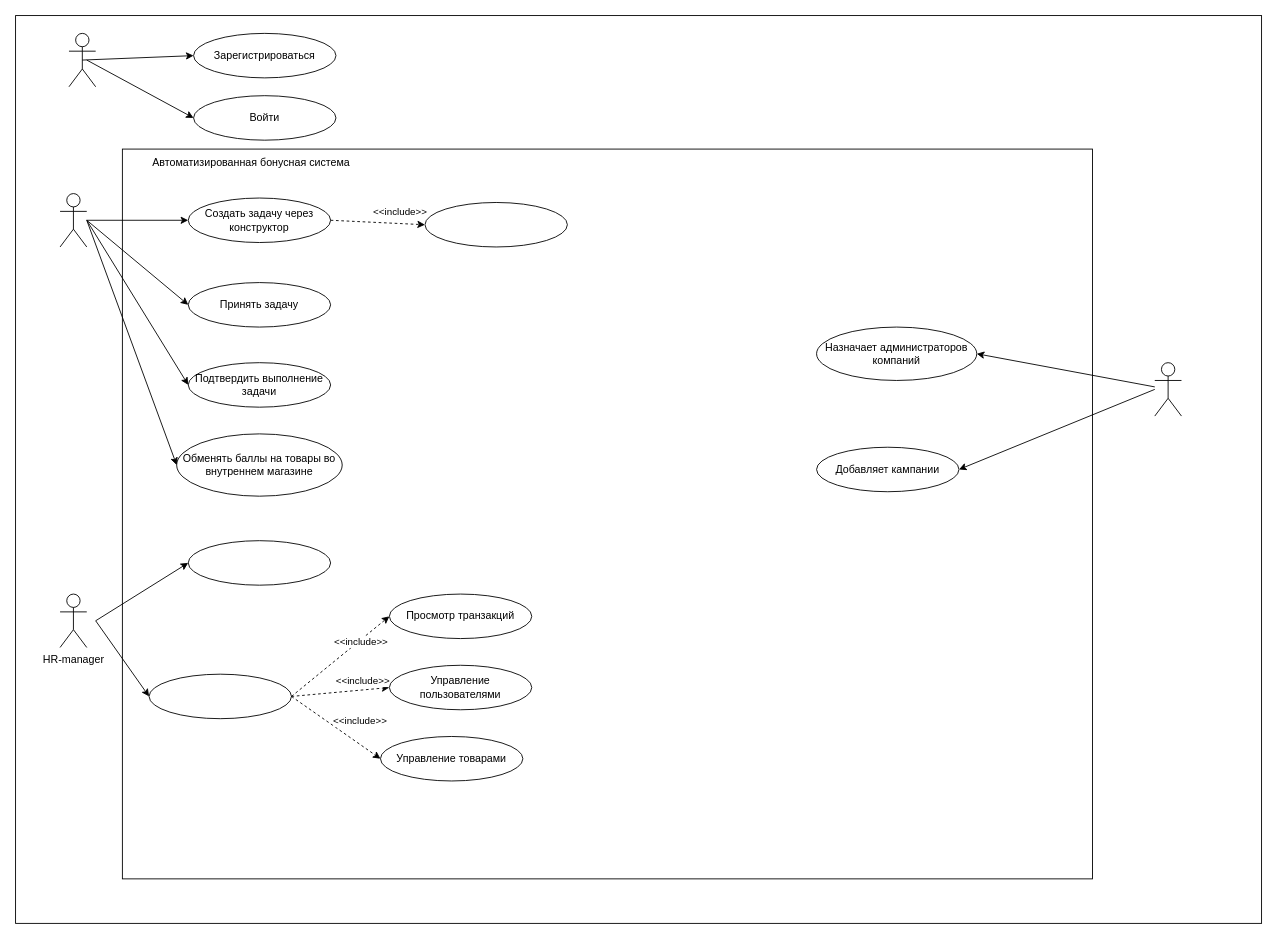
Image size: 1277x939. Some labels were removed from this diagram. The shapes that lost their labels are listed below. From the top down, each one's box as (x1, y1, x2, y2) in pixels, then its label:
(68, 32, 96, 87): Гость
(59, 193, 87, 247): Сотрудник
(424, 202, 567, 247): Указать свою цену
(1154, 362, 1181, 416): Главный администратор
(187, 540, 331, 585): Просмотр рейтинга сотрудников
(148, 673, 291, 719): Просмотр баз данных кампании
